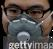with_mask: (1, 1, 53, 49)
